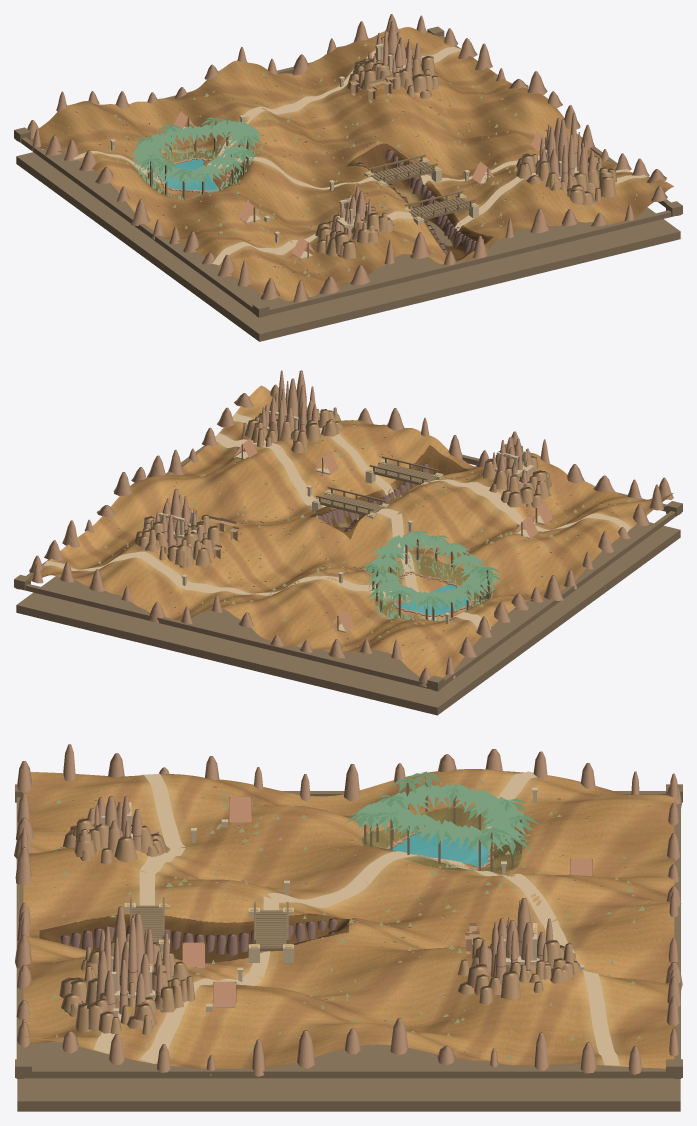
Rendered from golden_expanse_board.glb.
3 views of the same model, one above another, from view 1: azimuth 30°, elevation 25°; view 2: azimuth 150°, elevation 25°; view 3: azimuth 270°, elevation 25° (orthographic). The views are drawn at different scales.
Visible parts, largest first — view 1: Sculpted dune terrain, Board frame, Layered sandstone escarpments, Sandstone ruins, Oasis reeds and palms, Worn caravan roads, Bridge decks and trunks, Sunspire waystations and carved stone, Oxide seams and canyon faces, Palm fronds, Dry desert scrub, Caravan shelter awnings (+1 smaller); view 2: Sculpted dune terrain, Board frame, Layered sandstone escarpments, Sandstone ruins, Worn caravan roads, Oasis reeds and palms, Bridge decks and trunks, Sunspire waystations and carved stone, Palm fronds, Caravan shelter awnings, Dry desert scrub, Oxide seams and canyon faces (+1 smaller); view 3: Sculpted dune terrain, Board frame, Layered sandstone escarpments, Sandstone ruins, Worn caravan roads, Oasis reeds and palms, Bridge decks and trunks, Oxide seams and canyon faces, Palm fronds, Caravan shelter awnings, Sunspire waystations and carved stone, Oasis water (+1 smaller).
Boxes of the visible parts, bbox=[...] form: Sculpted dune terrain: bbox=[30, 27, 673, 300]; Board frame: bbox=[14, 26, 682, 341]; Layered sandstone escarpments: bbox=[27, 14, 667, 302]; Sandstone ruins: bbox=[51, 37, 635, 280]; Oasis reeds and palms: bbox=[129, 120, 262, 199]; Worn caravan roads: bbox=[73, 47, 647, 265]; Bridge decks and trunks: bbox=[147, 111, 546, 258]; Sunspire waystations and carved stone: bbox=[110, 43, 599, 259]; Oxide seams and canyon faces: bbox=[335, 53, 577, 253]; Palm fronds: bbox=[133, 117, 261, 183]; Dry desert scrub: bbox=[101, 41, 637, 284]; Caravan shelter awnings: bbox=[173, 111, 546, 258]; Sculpted dune terrain: bbox=[28, 385, 673, 677]; Board frame: bbox=[14, 445, 682, 715]; Layered sandstone escarpments: bbox=[29, 370, 673, 687]; Sandstone ruins: bbox=[86, 407, 624, 667]; Worn caravan roads: bbox=[43, 413, 630, 629]; Oasis reeds and palms: bbox=[367, 531, 499, 621]; Bridge decks and trunks: bbox=[241, 438, 544, 630]; Sunspire waystations and carved stone: bbox=[159, 409, 550, 632]; Palm fronds: bbox=[362, 531, 502, 611]; Caravan shelter awnings: bbox=[234, 438, 552, 631]; Dry desert scrub: bbox=[98, 425, 631, 646]; Oxide seams and canyon faces: bbox=[165, 410, 527, 532]; Sculpted dune terrain: bbox=[23, 769, 674, 1068]; Board frame: bbox=[15, 784, 682, 1111]; Layered sandstone escarpments: bbox=[14, 744, 682, 1076]; Sandstone ruins: bbox=[53, 779, 649, 1053]; Worn caravan roads: bbox=[93, 771, 619, 1065]; Oasis reeds and palms: bbox=[354, 783, 532, 871]; Bridge decks and trunks: bbox=[130, 776, 592, 1002]; Oxide seams and canyon faces: bbox=[60, 835, 542, 1004]; Palm fronds: bbox=[346, 771, 539, 854]; Caravan shelter awnings: bbox=[150, 797, 592, 1006]; Sunspire waystations and carved stone: bbox=[101, 787, 584, 1016]; Oasis water: bbox=[392, 831, 489, 867].
Size of the model in its own units: 44.04 by 10.77 by 43.16.
14 materials, 1 textured.
